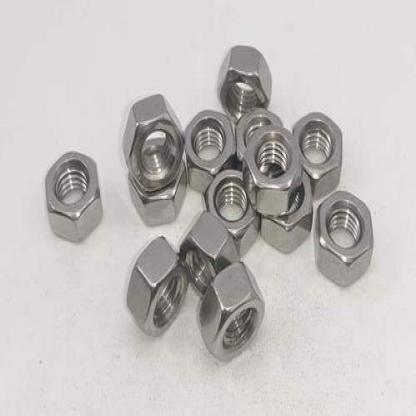FOD: (198, 262, 269, 362), (124, 230, 187, 340), (42, 149, 104, 247), (312, 190, 375, 285), (123, 92, 185, 187), (241, 124, 305, 216), (176, 207, 238, 297), (200, 168, 261, 257), (291, 107, 343, 208), (127, 146, 188, 231), (178, 107, 235, 192), (258, 164, 312, 251), (216, 41, 273, 122), (235, 102, 287, 171)
